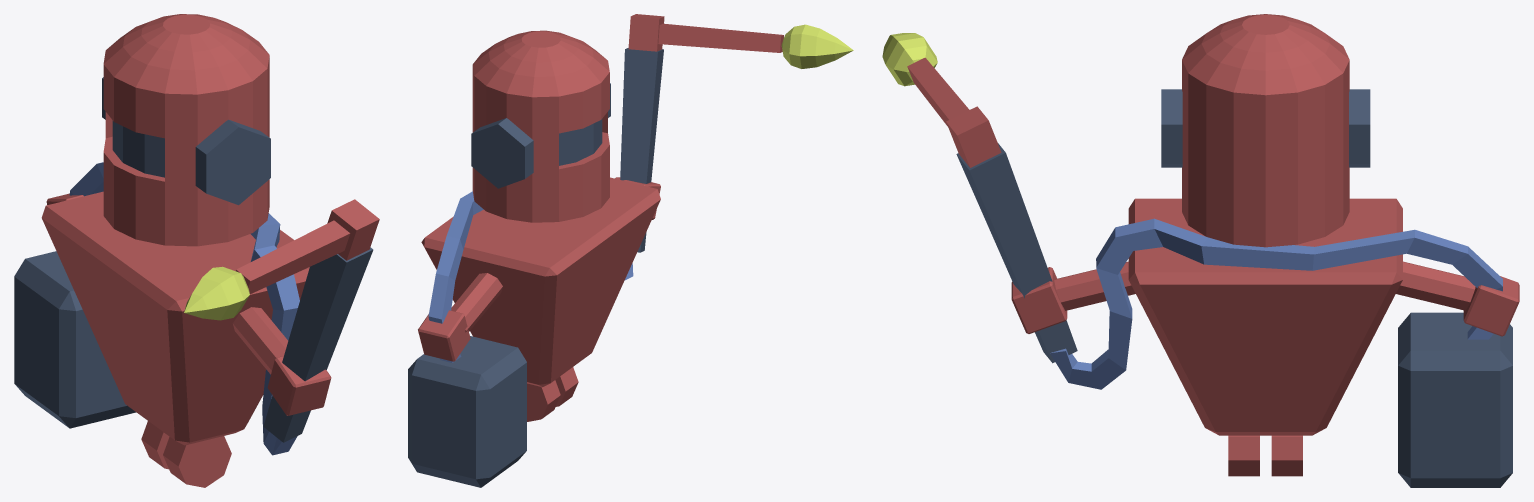
Rendered from RobotWelder.fbx.
3 views of the same model, side by side, from view 1: azimuth 30°, elevation 25°; view 2: azimuth 150°, elevation 25°; view 3: azimuth 270°, elevation 25° (orthographic). The views are drawn at different scales.
Parts seen in each view (by area): view 1: RobotWelder; view 2: RobotWelder; view 3: RobotWelder.
Boxes of the visible parts, box(x1,y1,x2,y2) form: RobotWelder: box(14, 14, 379, 487); RobotWelder: box(408, 14, 853, 487); RobotWelder: box(882, 14, 1519, 487).
Bounding box in the file's own units: 32.02 × 50.47 × 64.69.
